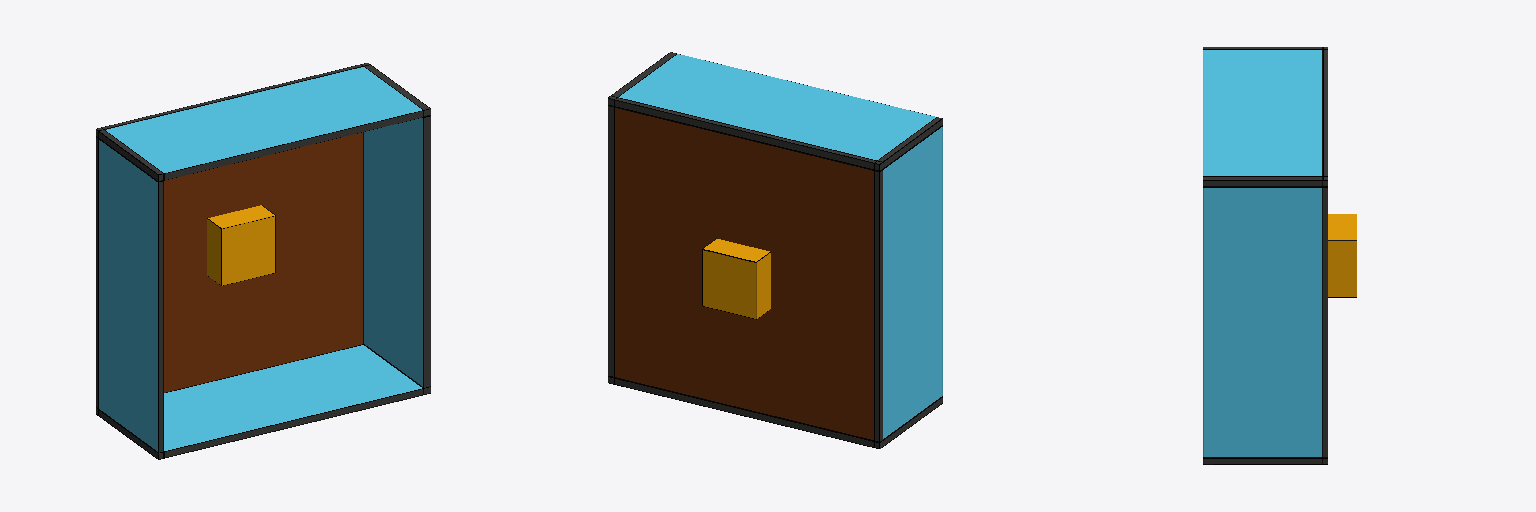
The picture shows the model from 3 angles: view 1: azimuth 30°, elevation 25°; view 2: azimuth 150°, elevation 25°; view 3: azimuth 270°, elevation 25°; orthographic projection.
Parts seen in each view (by area): view 1: Cube_Cube.001, Cube; view 2: Cube_Cube.001, Cube; view 3: Cube_Cube.001, Cube.
Part boxes in pixels (x1,y1,x2,y2): Cube_Cube.001: (96, 63, 430, 459); Cube: (207, 205, 275, 285); Cube_Cube.001: (608, 52, 942, 448); Cube: (702, 238, 770, 319); Cube_Cube.001: (1203, 47, 1327, 464); Cube: (1328, 214, 1356, 297).
Bounding box in the file's own units: 9.96 × 9.96 × 4.89.
2 materials, 1 textured.